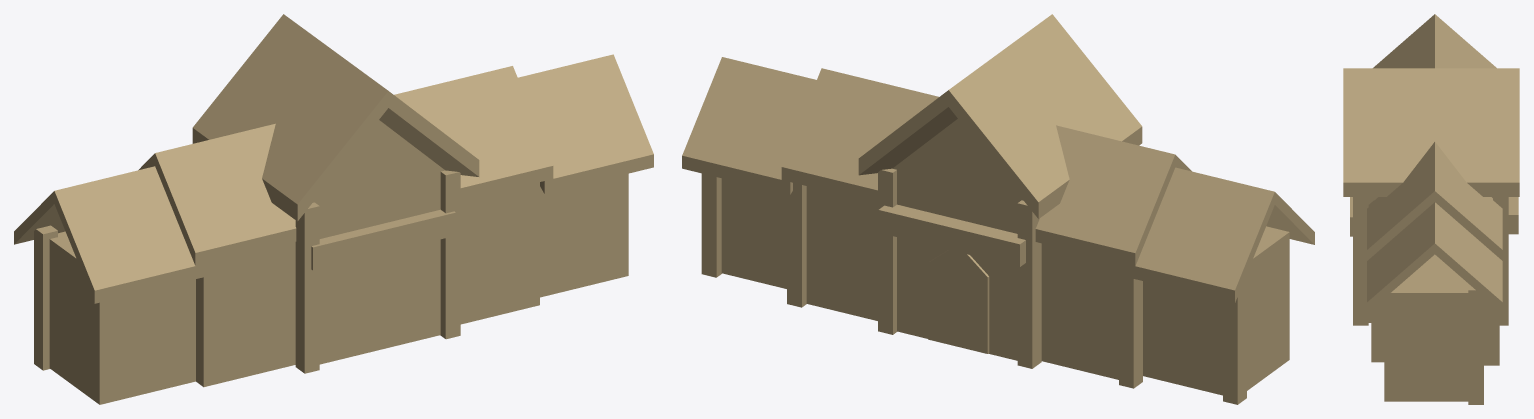
The model's file is SM_Building-TownHall (2).fbx.
The picture shows the model from 3 angles, left to right: view 1: azimuth 30°, elevation 25°; view 2: azimuth 150°, elevation 25°; view 3: azimuth 270°, elevation 25°; orthographic projection. The views are drawn at different scales.
Parts seen in each view (by area): view 1: SM_Building-TownHall; view 2: SM_Building-TownHall; view 3: SM_Building-TownHall.
Part boxes in pixels (x1,y1,x2,y2): SM_Building-TownHall: [14, 14, 653, 404]; SM_Building-TownHall: [682, 14, 1314, 404]; SM_Building-TownHall: [1343, 14, 1519, 404].
Bounding box in the file's own units: 582 × 266 × 189.
